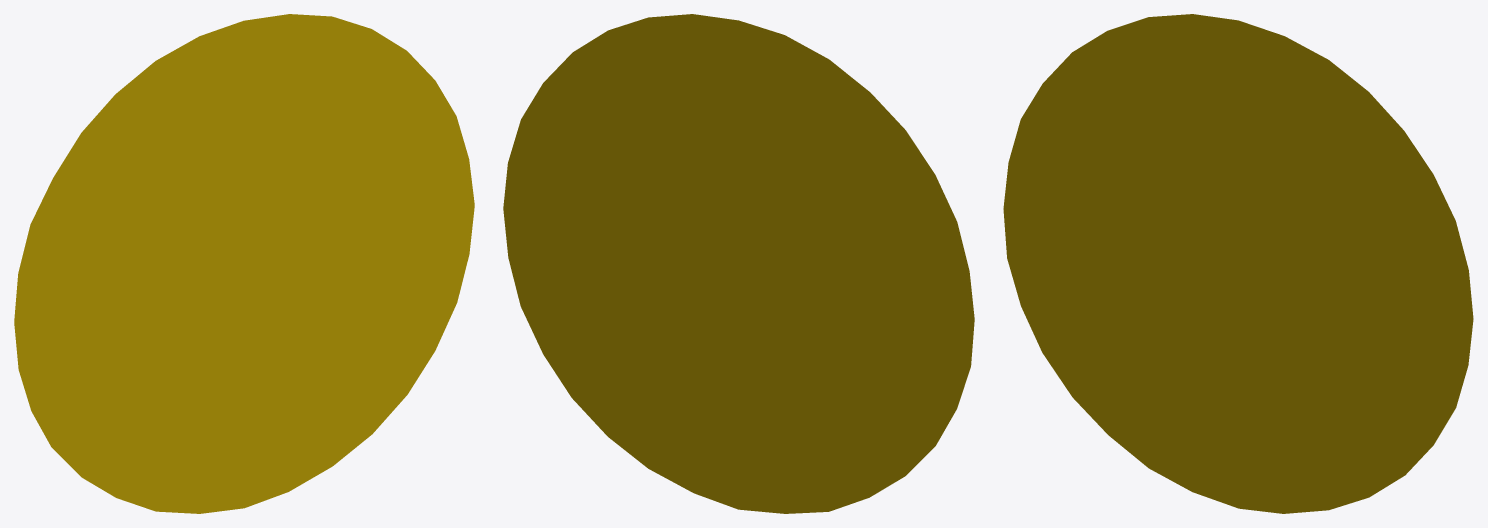
Rendered from original_11.obj.
3 renders of one model, left to right at view 1: azimuth 30°, elevation 25°; view 2: azimuth 150°, elevation 25°; view 3: azimuth 330°, elevation 25°, orthographic.
Parts seen in each view (by area): view 1: mesh9/mesh9-geometry#mesh9-geometry; view 2: mesh9/mesh9-geometry#mesh9-geometry; view 3: mesh9/mesh9-geometry#mesh9-geometry.
Part boxes in pixels (x1,y1,x2,y2): mesh9/mesh9-geometry#mesh9-geometry: (14, 14, 474, 513); mesh9/mesh9-geometry#mesh9-geometry: (503, 14, 974, 513); mesh9/mesh9-geometry#mesh9-geometry: (1003, 14, 1473, 513).
Size of the model in its own units: 0.0904 by 0.0906 by 0.00182.
